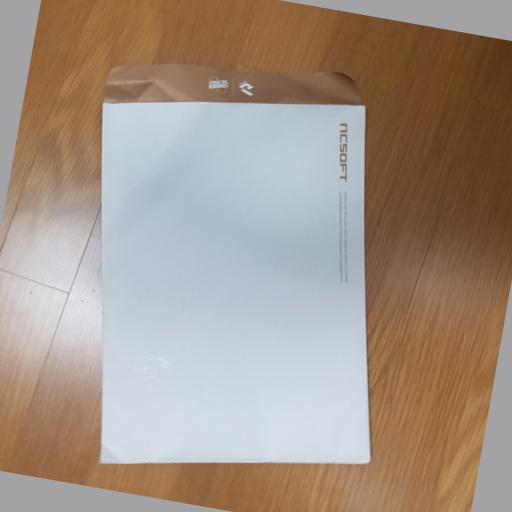Paper_2: (92, 60, 380, 481)
